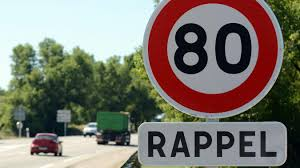Speed_limit_80km: (144, 1, 283, 118)
